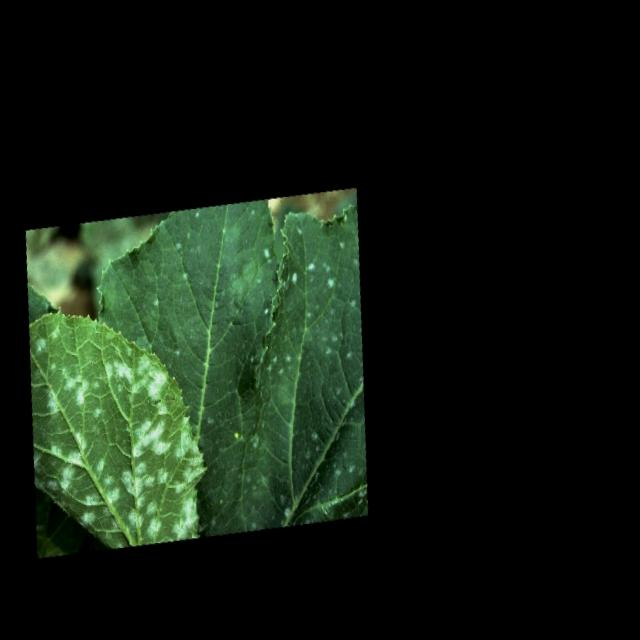Powdery_Mildew: (31, 191, 372, 556)
